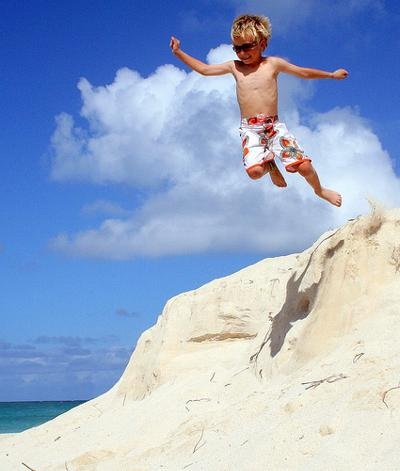person: (170, 13, 352, 208)
